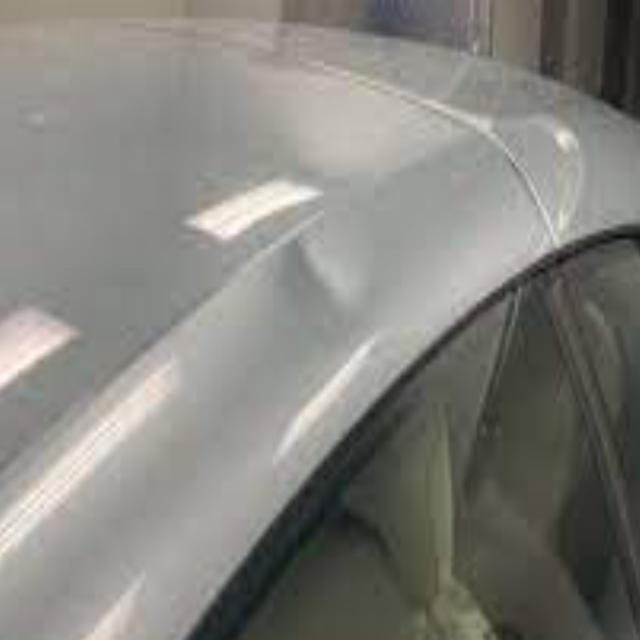dents: (292, 216, 365, 352)
